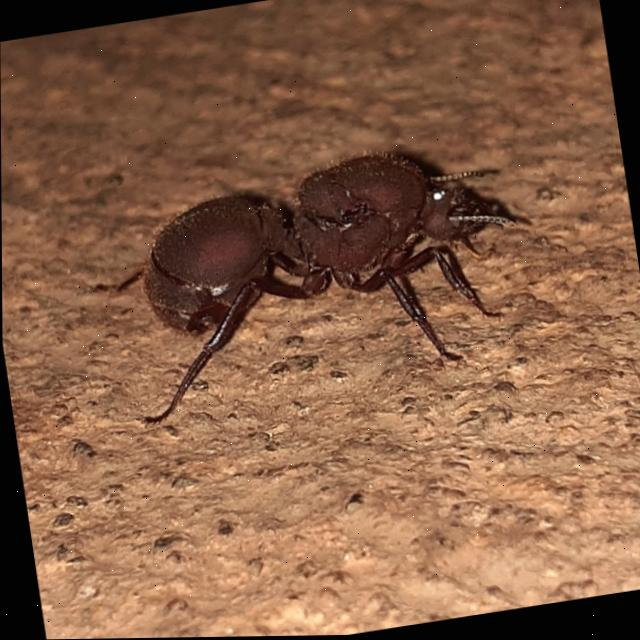Alive-Female-Dealate: (62, 129, 540, 439)
